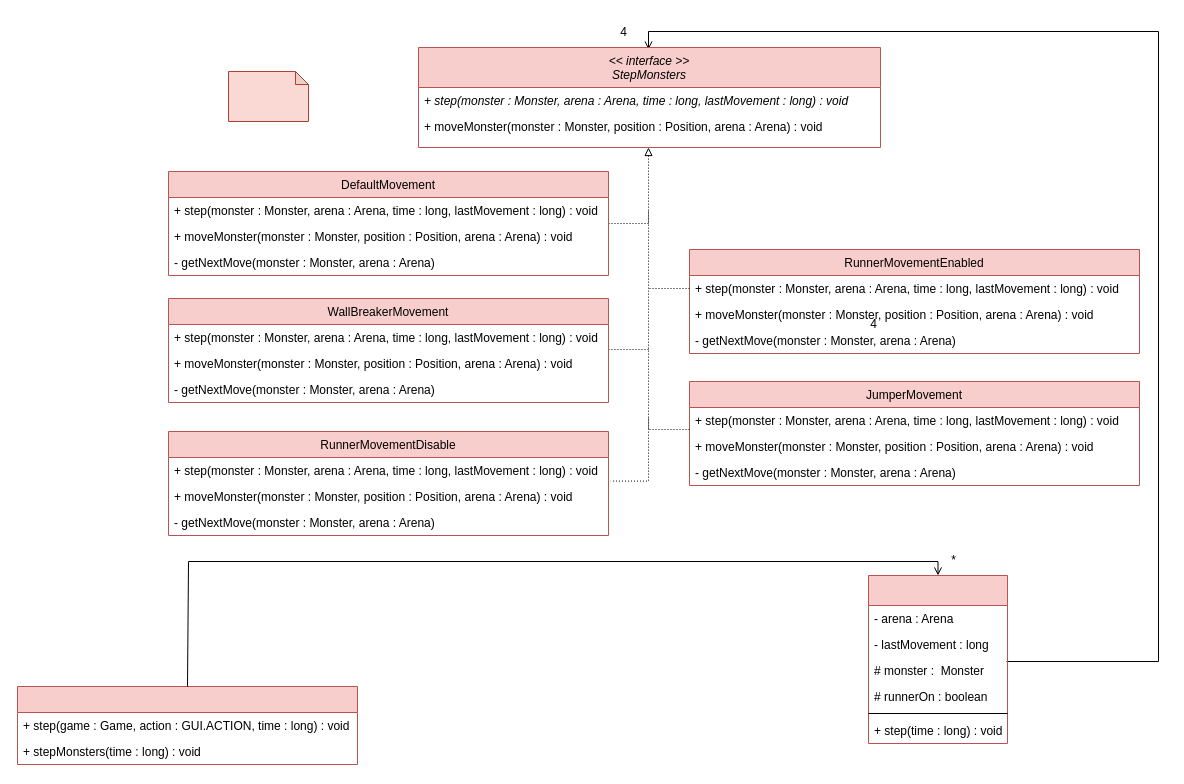
This 1184x784 diagram has some shape labels left out. Each missing label, with the box of its shape:
ArenaController: (16, 686, 358, 764)
MonsterController: (868, 574, 1008, 744)
Strategy Pattern + State Pattern: (228, 70, 308, 122)
